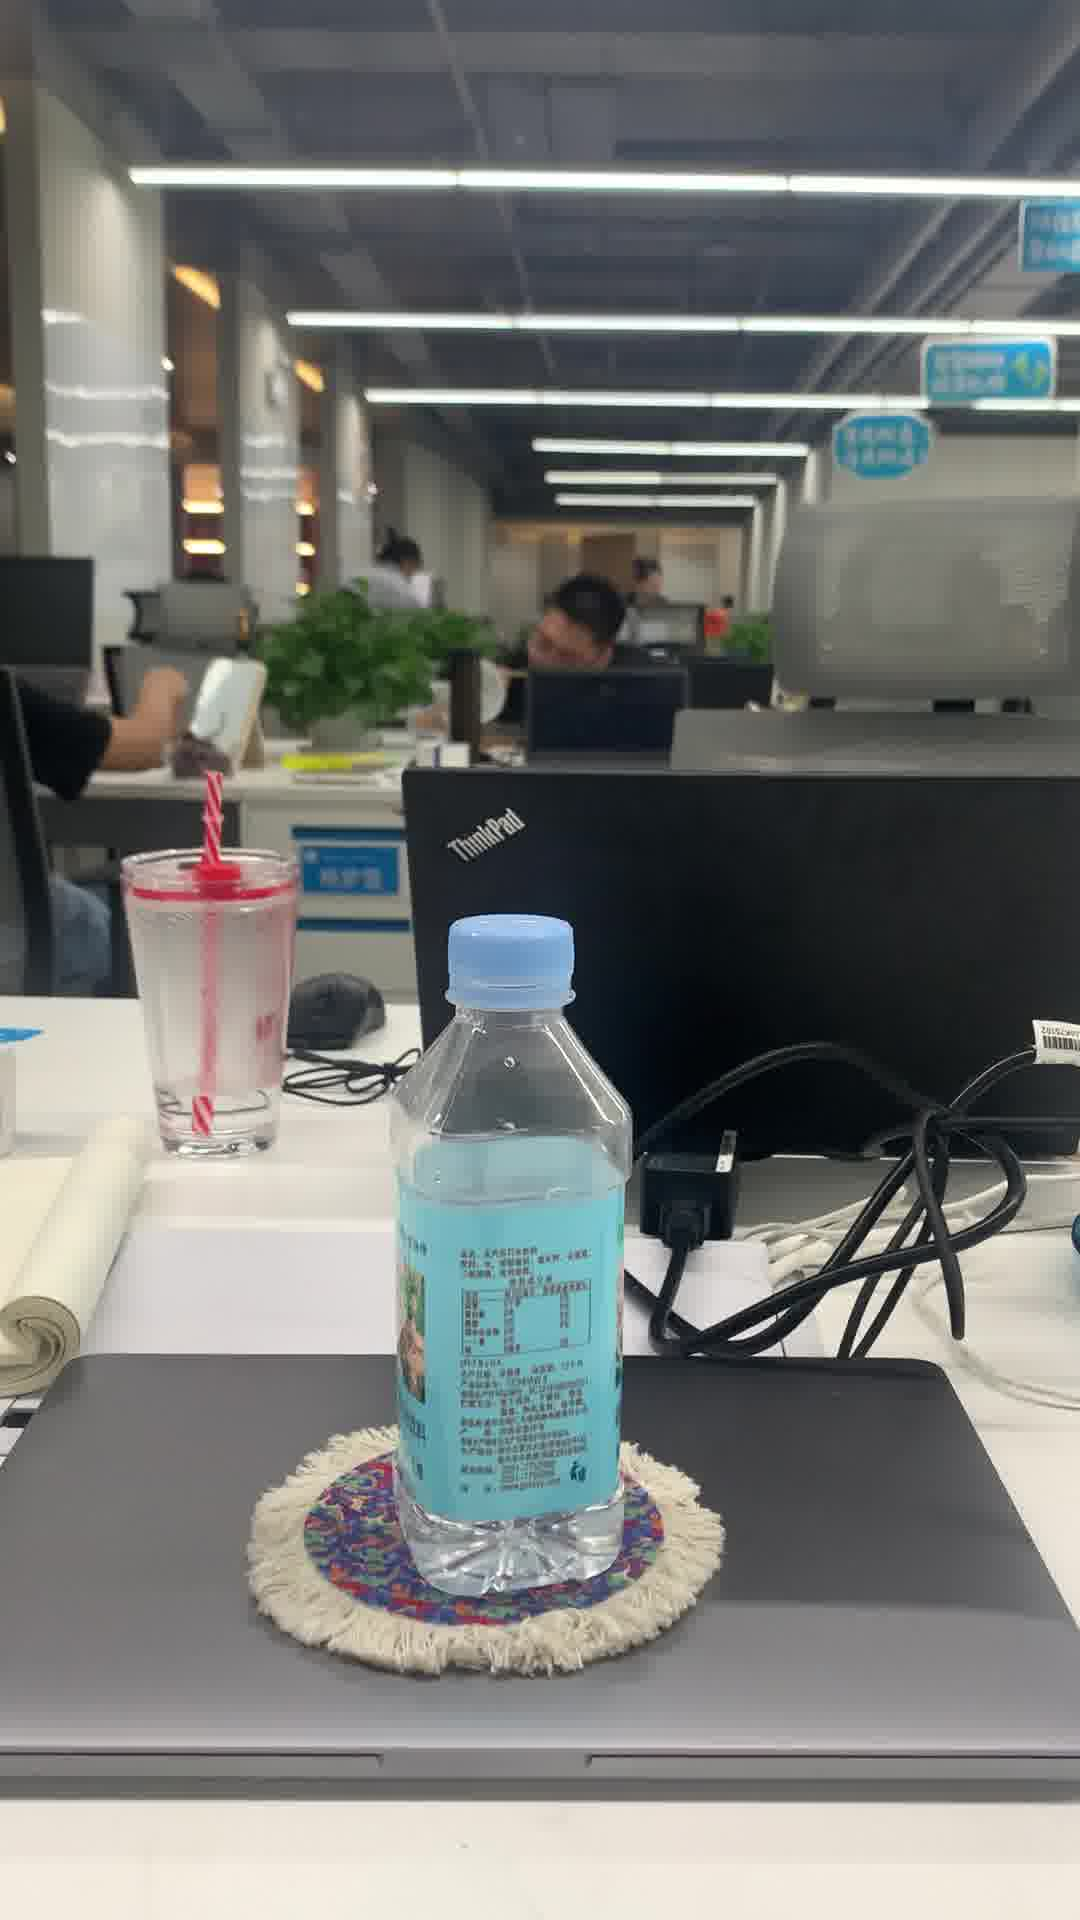水瓶: (386, 909, 640, 1607)
